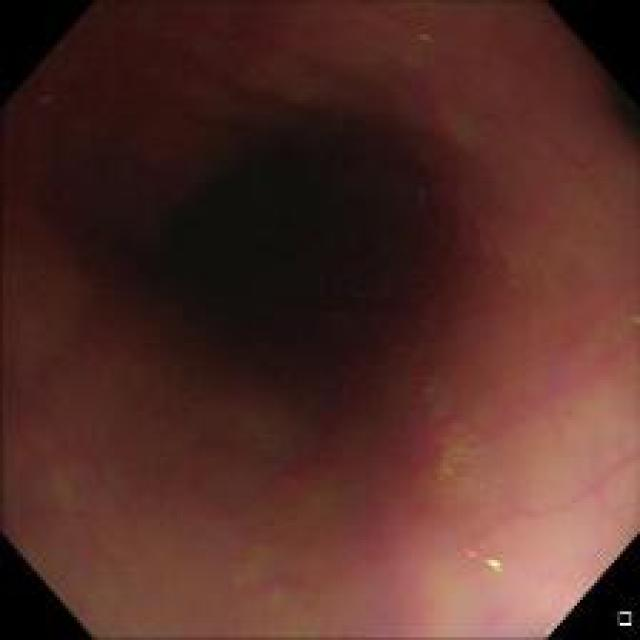color misalignment: (284, 58, 398, 145), (419, 416, 495, 500), (418, 88, 482, 172), (230, 546, 306, 610), (464, 546, 505, 576)
